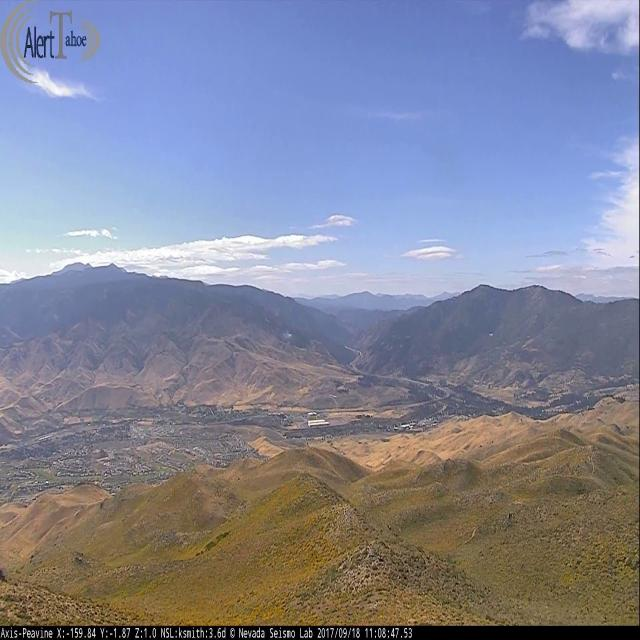smoke: (281, 329, 292, 341)
